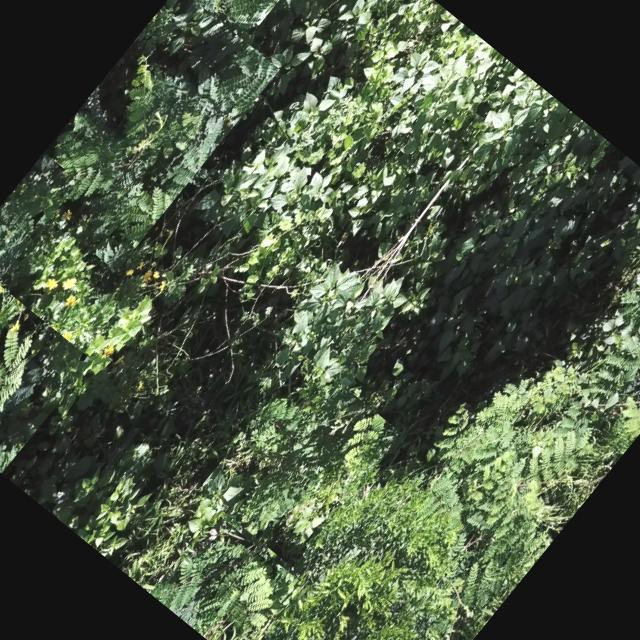Mysore-Thorn-Weed: (360, 320, 640, 623), (14, 0, 279, 271), (198, 357, 400, 568), (0, 254, 92, 473), (149, 513, 304, 640), (560, 196, 640, 415), (0, 153, 79, 325), (182, 0, 340, 36)
